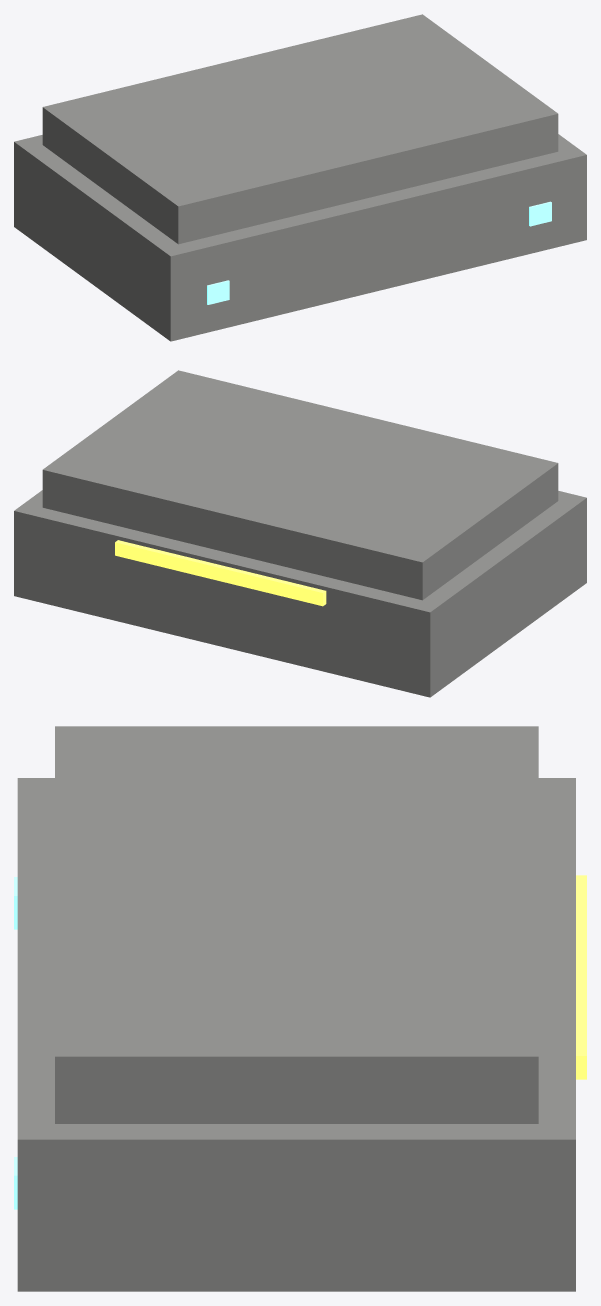
Rendered from data_center_lod1-Bn_U6v5n.glb.
The picture shows the model from 3 angles, top to bottom: view 1: azimuth 30°, elevation 25°; view 2: azimuth 150°, elevation 25°; view 3: azimuth 270°, elevation 25°; orthographic projection. The views are drawn at different scales.
Visible parts, largest first — view 1: body, window; view 2: body, sign; view 3: body, sign.
Part boxes in pixels (x1,y1,x2,y2): body: (14,14,586,341); window: (207,201,551,304); body: (14,370,586,697); sign: (115,540,326,606); body: (17,726,575,1291); sign: (576,875,586,1079).
Size of the model in its own units: 0.92 by 0.26 by 0.616.
